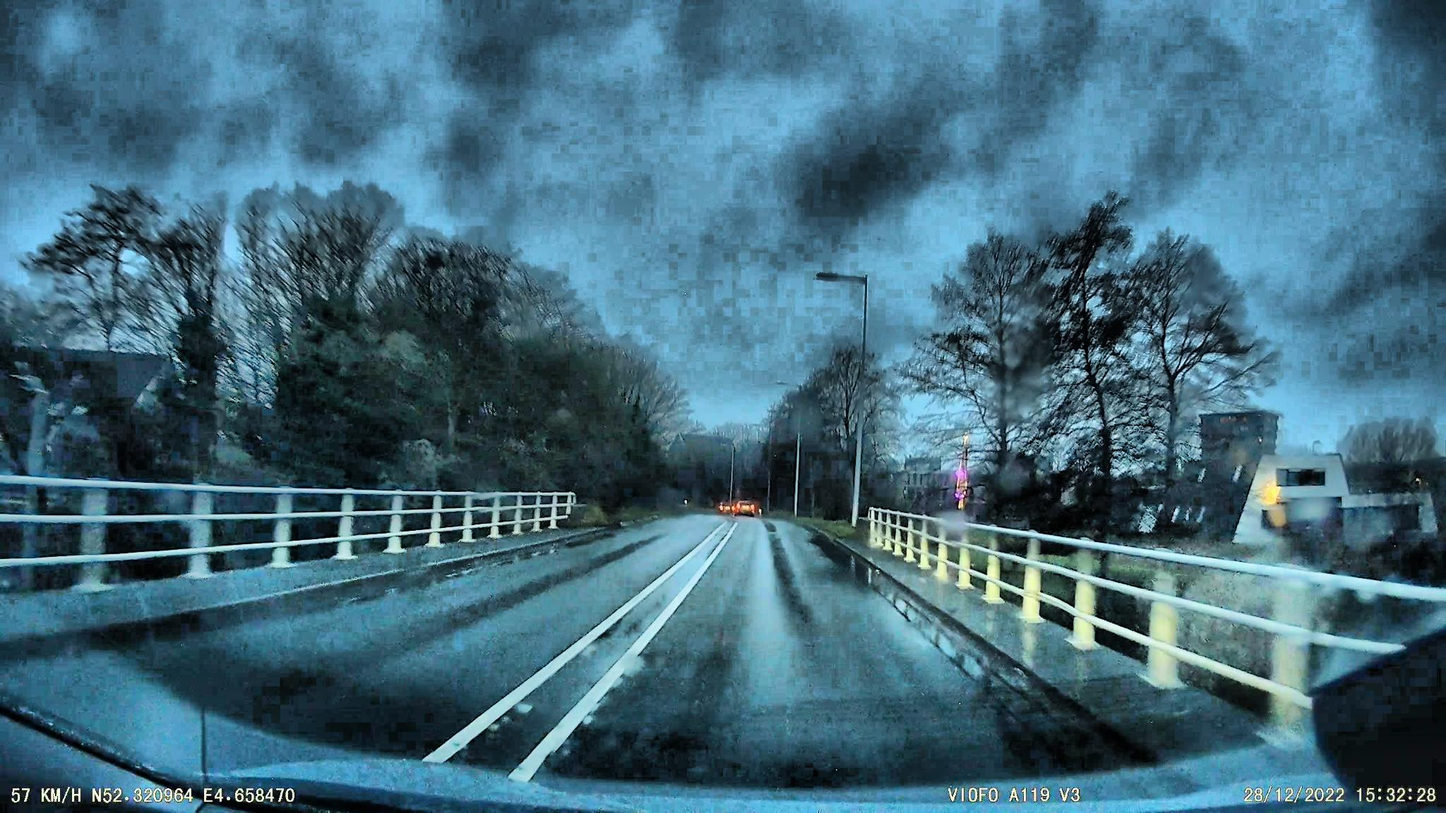Roads: (0, 515, 1094, 813)
